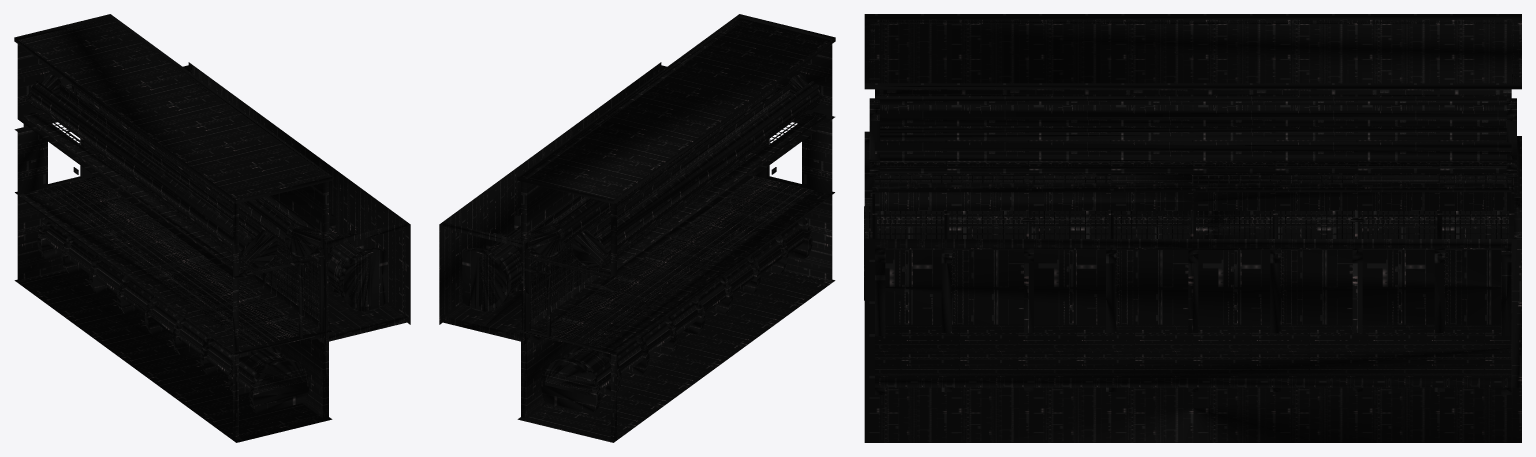
File: room2pipes2_opt.obj
3 renders of one model, left to right at view 1: azimuth 30°, elevation 25°; view 2: azimuth 150°, elevation 25°; view 3: azimuth 270°, elevation 25°, orthographic. The views are drawn at different scales.
Bounding box in the file's own units: 46.38 × 61.8 × 102.
5 materials, 5 textured.
